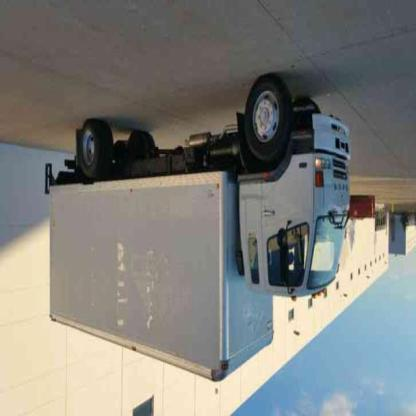truck: (45, 82, 353, 381)
